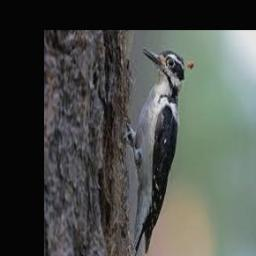Woodpecker: (124, 48, 194, 256)
